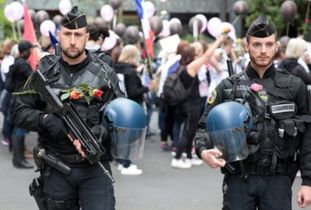10+: (1, 1, 308, 210)
